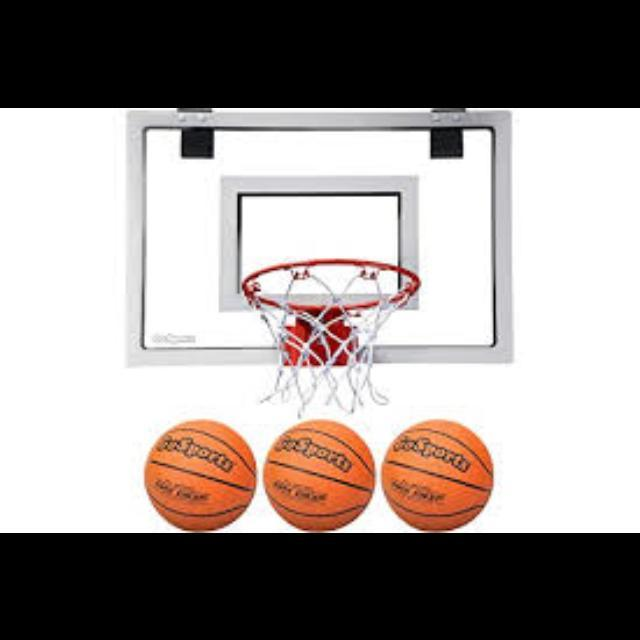basketball: (146, 422, 256, 530), (265, 420, 373, 530), (382, 419, 492, 527)
rim: (242, 258, 422, 409)
